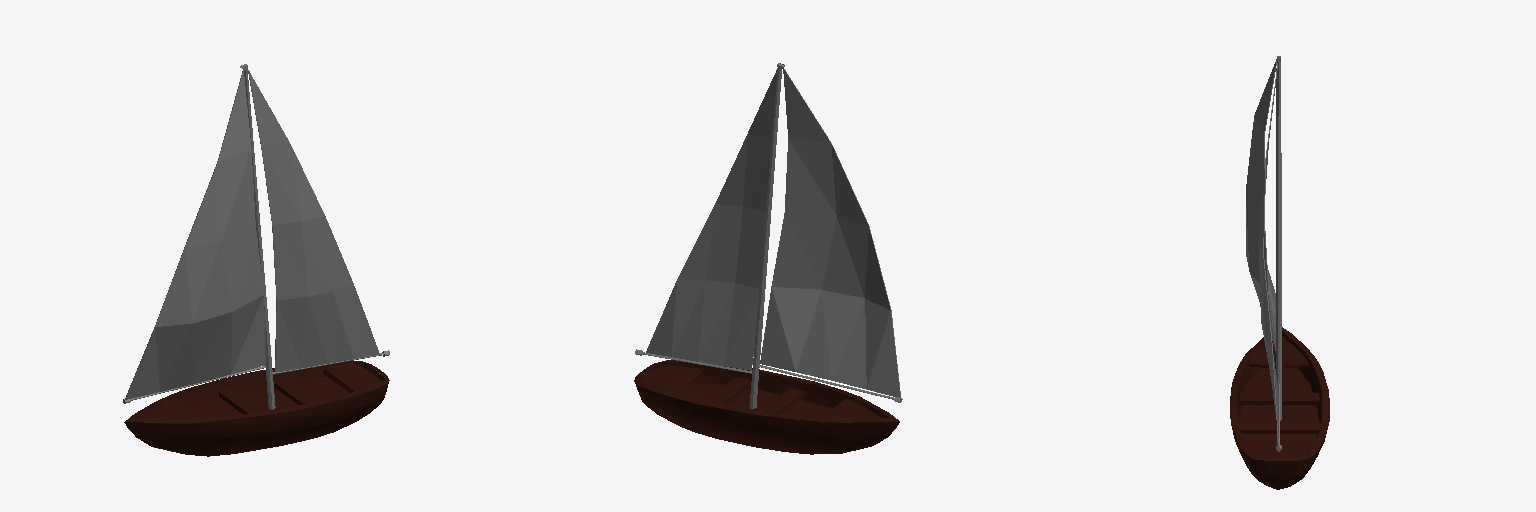
The model's file is sailboat.obj.
3 renders of one model, left to right at view 1: azimuth 30°, elevation 25°; view 2: azimuth 150°, elevation 25°; view 3: azimuth 270°, elevation 25°, orthographic.
Parts seen in each view (by area): view 1: sailboat:Sailboat1; view 2: sailboat:Sailboat1; view 3: sailboat:Sailboat1.
Part boxes in pixels (left/top/right/bottom): sailboat:Sailboat1: left=123, top=64, right=389, bottom=456; sailboat:Sailboat1: left=634, top=63, right=902, bottom=454; sailboat:Sailboat1: left=1230, top=56, right=1329, bottom=489.
Size of the model in its own units: 14.34 by 20.05 by 4.72.